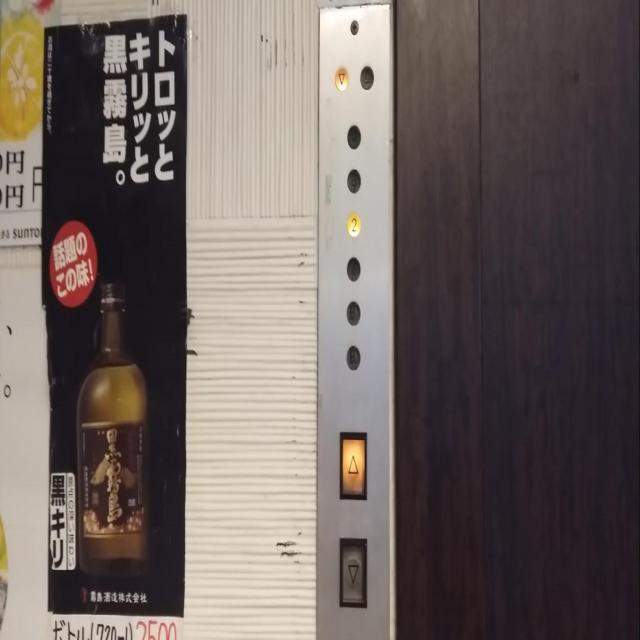1: (346, 256, 360, 282)
2: (346, 212, 361, 238)
B: (346, 299, 361, 326), (346, 344, 360, 371)
blur: (346, 123, 361, 149), (347, 168, 361, 194)
down: (339, 537, 367, 608), (334, 66, 348, 90)
up: (339, 430, 366, 502), (359, 64, 374, 90)
